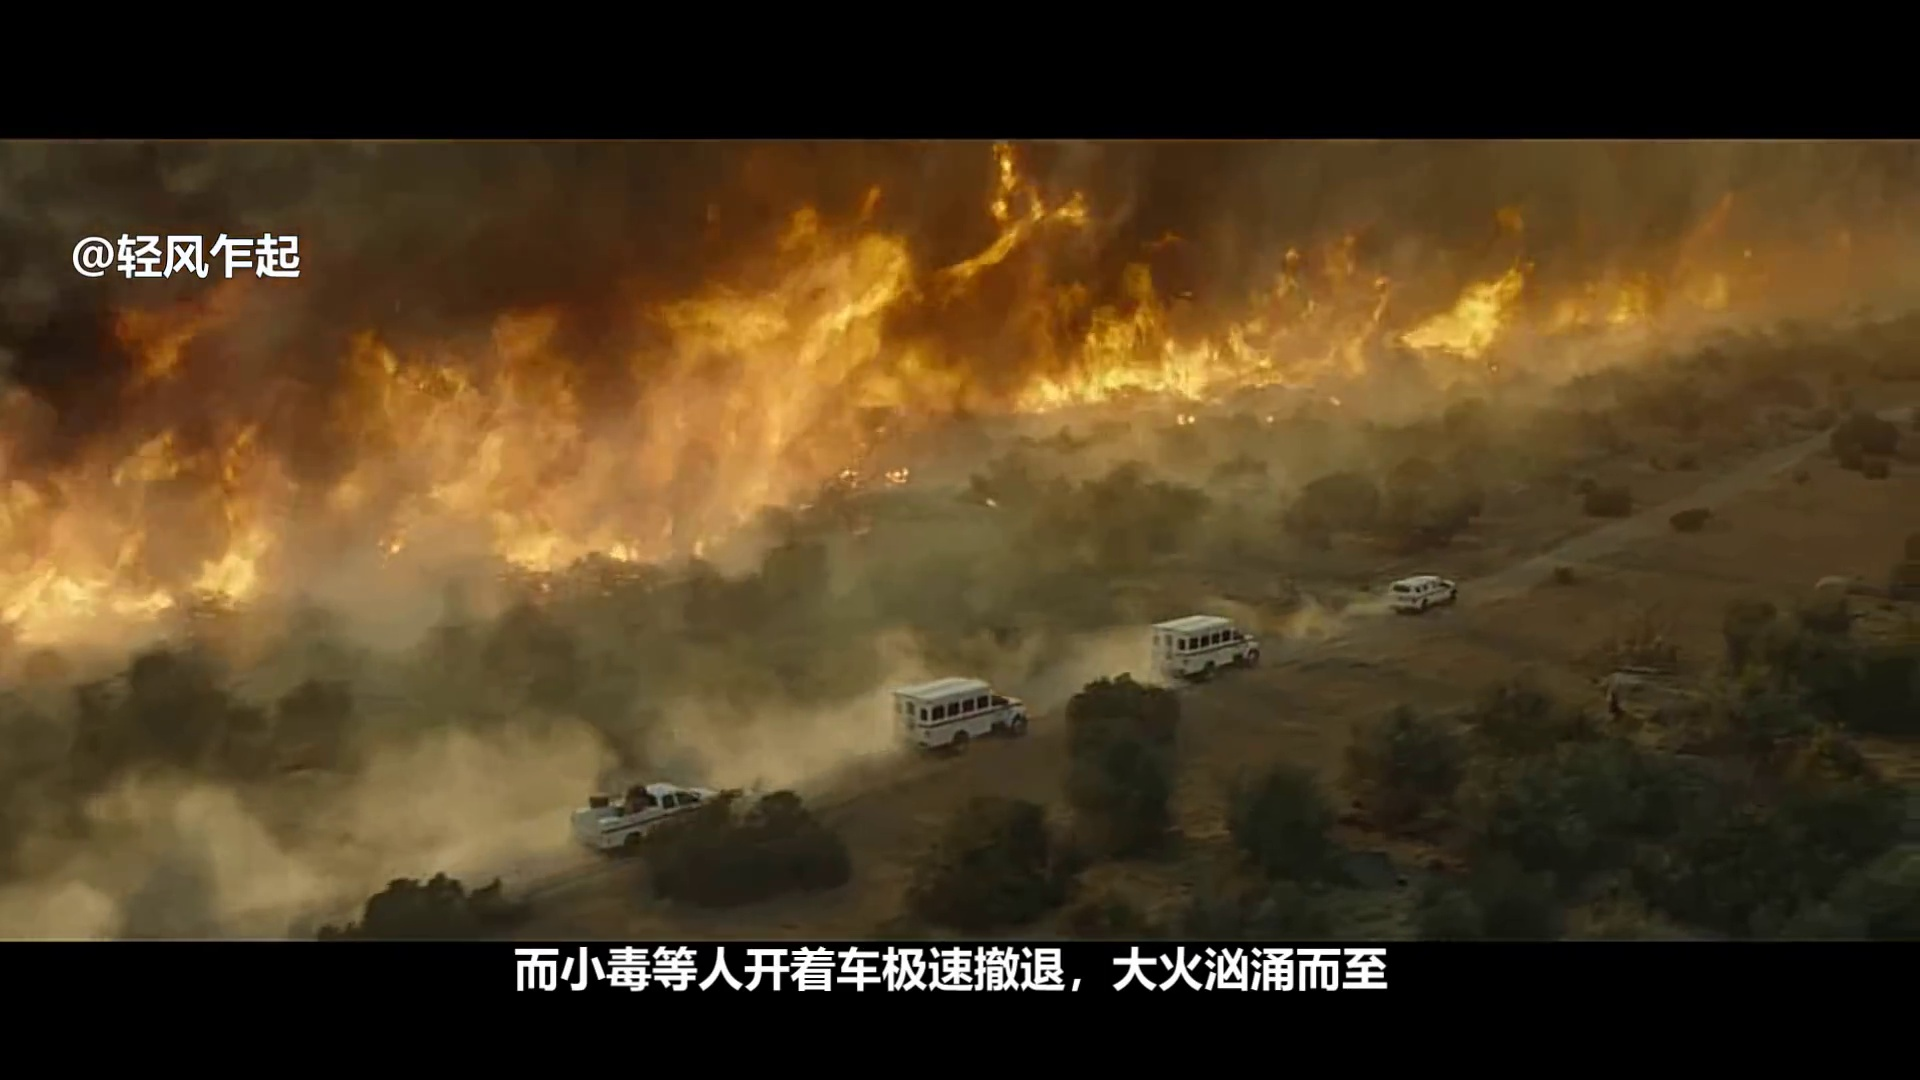fire: (750, 252, 915, 353), (1229, 289, 1375, 378), (1062, 344, 1208, 392), (17, 574, 167, 617), (1422, 284, 1506, 357), (996, 152, 1042, 231), (492, 529, 558, 570), (203, 556, 253, 604), (609, 541, 632, 559)
